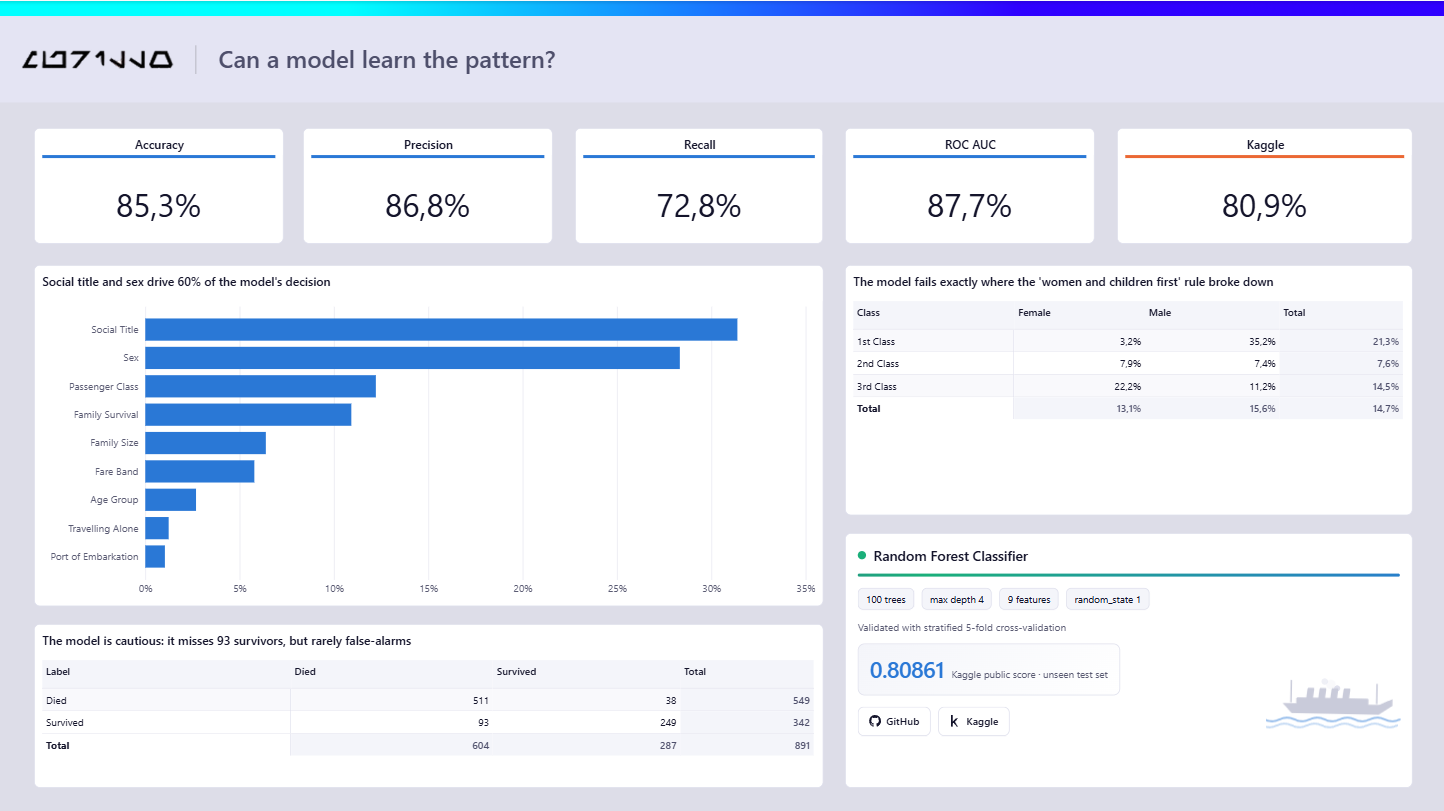

This screenshot's page, from the dashboard's own definition file:
{"tool":"powerbi","page":{"name":"Predicting Survival","canvas":[1920,1080],"ordinal":4},"visuals":[{"type":"cardVisual","title":"Accuracy","fields":{"Data":["_Measures.Model Accuracy"]},"box":[44.8,168.8,331.7,153.9],"z":0},{"type":"cardVisual","title":"Precision","fields":{"Data":["_Measures.Precision"]},"box":[403.4,168.8,331.7,153.9],"z":1000},{"type":"cardVisual","title":"Recall","fields":{"Data":["_Measures.Recall"]},"box":[765,168.8,330.2,153.9],"z":2000},{"type":"cardVisual","title":"ROC AUC","fields":{"Data":["_Measures.ROC AUC"]},"box":[1123.6,168.8,331.7,153.9],"z":3000},{"type":"cardVisual","title":"Kaggle","fields":{"Data":["_Measures.Kaggle Score"]},"box":[1485.2,168.8,393,153.9],"z":4000},{"type":"barChart","title":"Social title and sex drive 60% of the model''s decision","fields":{"Category":["ml_feature_importance.Feature"],"Y":["Sum(ml_feature_importance.Importance)"]},"box":[44.8,351.1,1050.4,454.2],"z":5000},{"type":"pivotTable","title":"The model is cautious: it misses 93 survivors, but rarely false-alarms","fields":{"Columns":["ml_predictions.Predicted_Label"],"Rows":["ml_predictions.Actual_Label"],"Values":["CountNonNull(ml_predictions.PassengerId)"]},"box":[44.8,829.3,1050.4,218.1],"z":6000},{"type":"pivotTable","title":"The model fails exactly where the ''women and children first'' rule broke down","fields":{"Columns":["d_sexo.Descricao"],"Rows":["d_classe.NomeClasse"],"Values":["_Measures.Error Rate"]},"box":[1123.6,351.1,754.6,333.2],"z":7000},{"type":"textbox","box":[280,44.3,828.6,72.9],"z":8000},{"type":"htmlContent443BE3AD55E043BF878BED274D3A6865","fields":{"content":["_Measures.Model Card HTML"]},"box":[1123.6,708.2,754.6,339.2],"z":9000}]}

Visuals, with their boxes in screenshot pixels (x1, y1, x2, y2), scaled from the page's 1920x1080 canvas onto the 1444x811 screenshot:
"Accuracy" cardVisual: BBox(34, 127, 283, 242)
"Precision" cardVisual: BBox(303, 127, 553, 242)
"Recall" cardVisual: BBox(575, 127, 824, 242)
"ROC AUC" cardVisual: BBox(845, 127, 1095, 242)
"Kaggle" cardVisual: BBox(1117, 127, 1413, 242)
"Social title and sex drive 60% of the model''s decision" barChart: BBox(34, 264, 824, 605)
"The model is cautious: it misses 93 survivors, but rarely false-alarms" pivotTable: BBox(34, 623, 824, 787)
"The model fails exactly where the ''women and children first'' rule broke down" pivotTable: BBox(845, 264, 1413, 514)
textbox: BBox(211, 33, 834, 88)
htmlContent443BE3AD55E043BF878BED274D3A6865 - _Measures.Model Card HTML: BBox(845, 532, 1413, 787)
